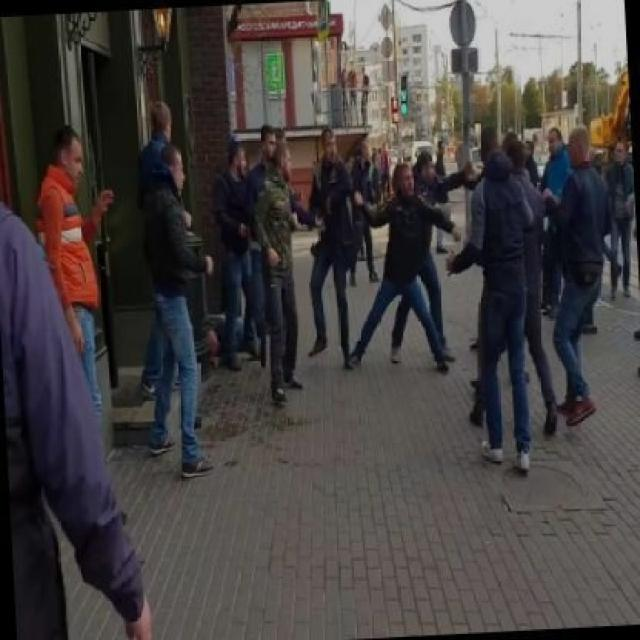fight: (444, 110, 626, 469), (328, 129, 473, 379), (245, 123, 368, 406)
non-fight: (136, 136, 222, 483), (34, 120, 105, 436)
